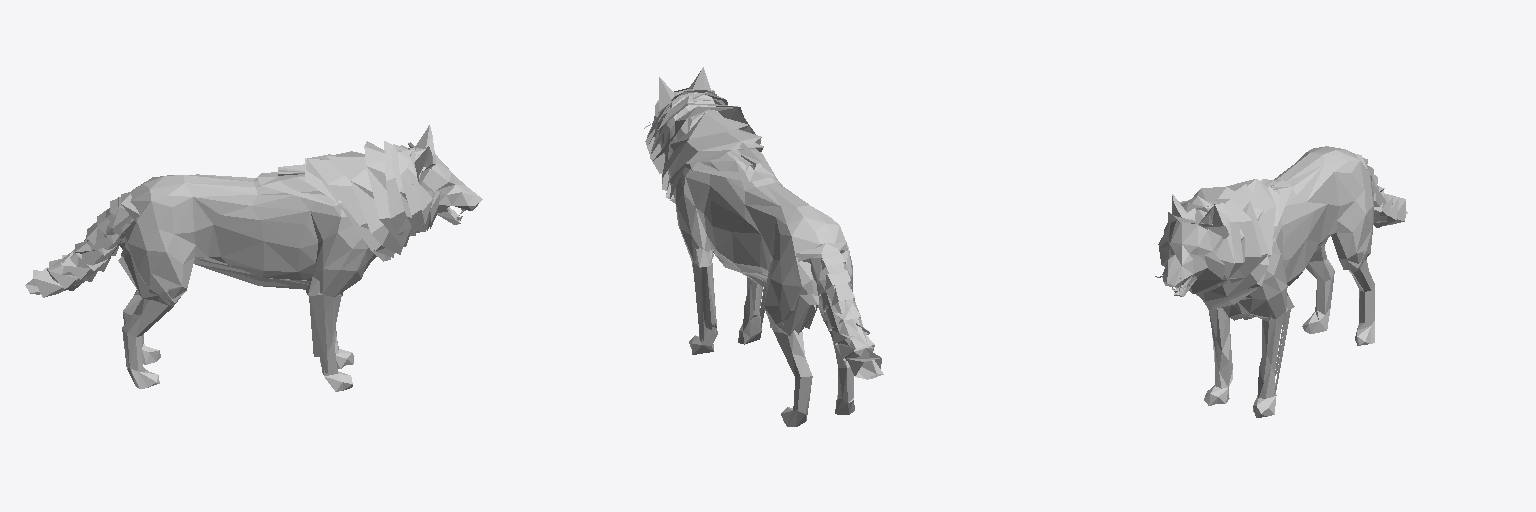
The model's file is guardian1.obj.
The picture shows the model from 3 angles: view 1: azimuth 30°, elevation 25°; view 2: azimuth 150°, elevation 25°; view 3: azimuth 270°, elevation 25°; orthographic projection.
Visible parts, largest first — view 1: wolf; view 2: wolf; view 3: wolf.
Boxes of the visible parts, <box> form: wolf: <box>25,125,482,391</box>; wolf: <box>644,67,883,426</box>; wolf: <box>1155,146,1407,417</box>.
Size of the model in its own units: 1.18 by 0.7962 by 0.7675.